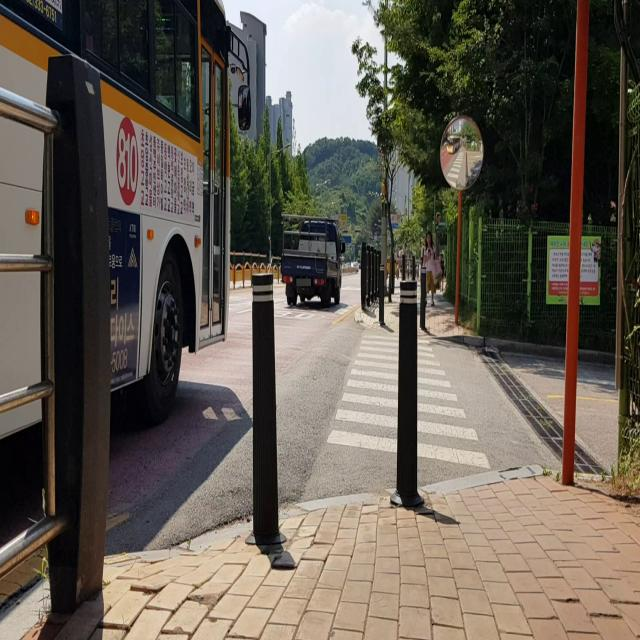횡단보도: (325, 331, 492, 472)
